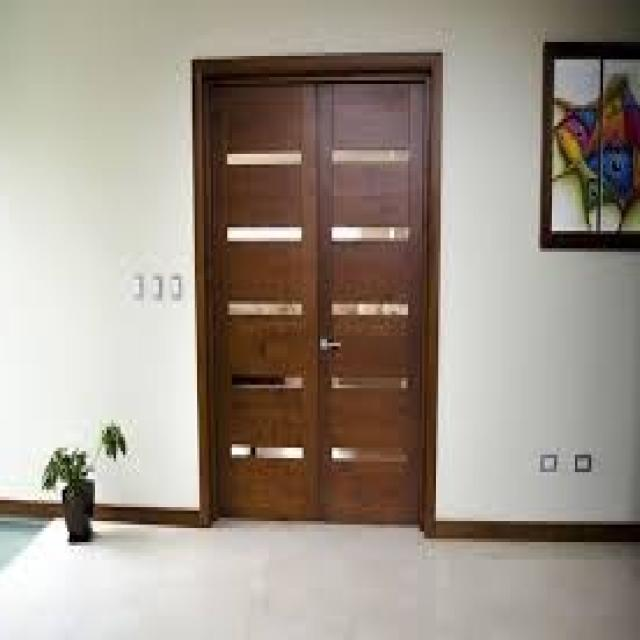door: (205, 72, 430, 526)
